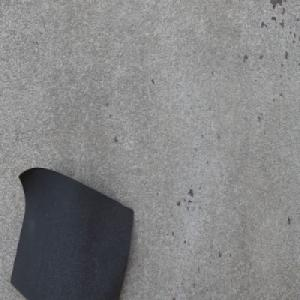PaintChip: (9, 165, 135, 300)
